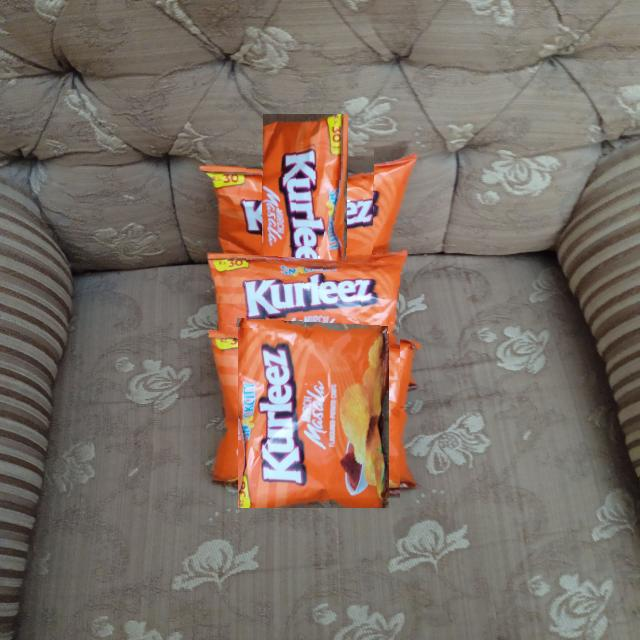Plastic: (228, 327, 400, 498), (237, 140, 374, 278), (217, 254, 400, 337)
